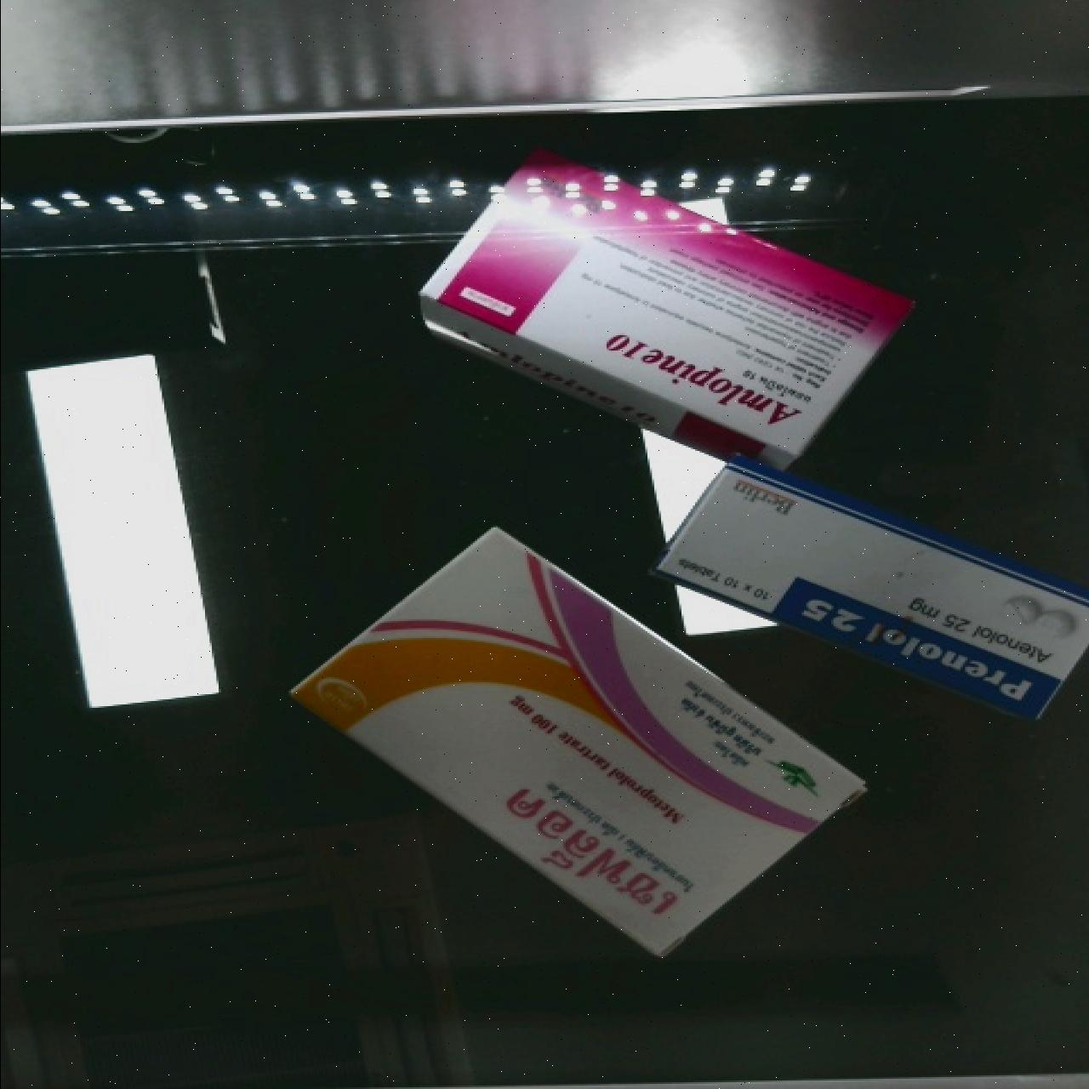medicine_label_obb: (469, 754, 719, 962), (767, 577, 1061, 725), (579, 316, 820, 450)
